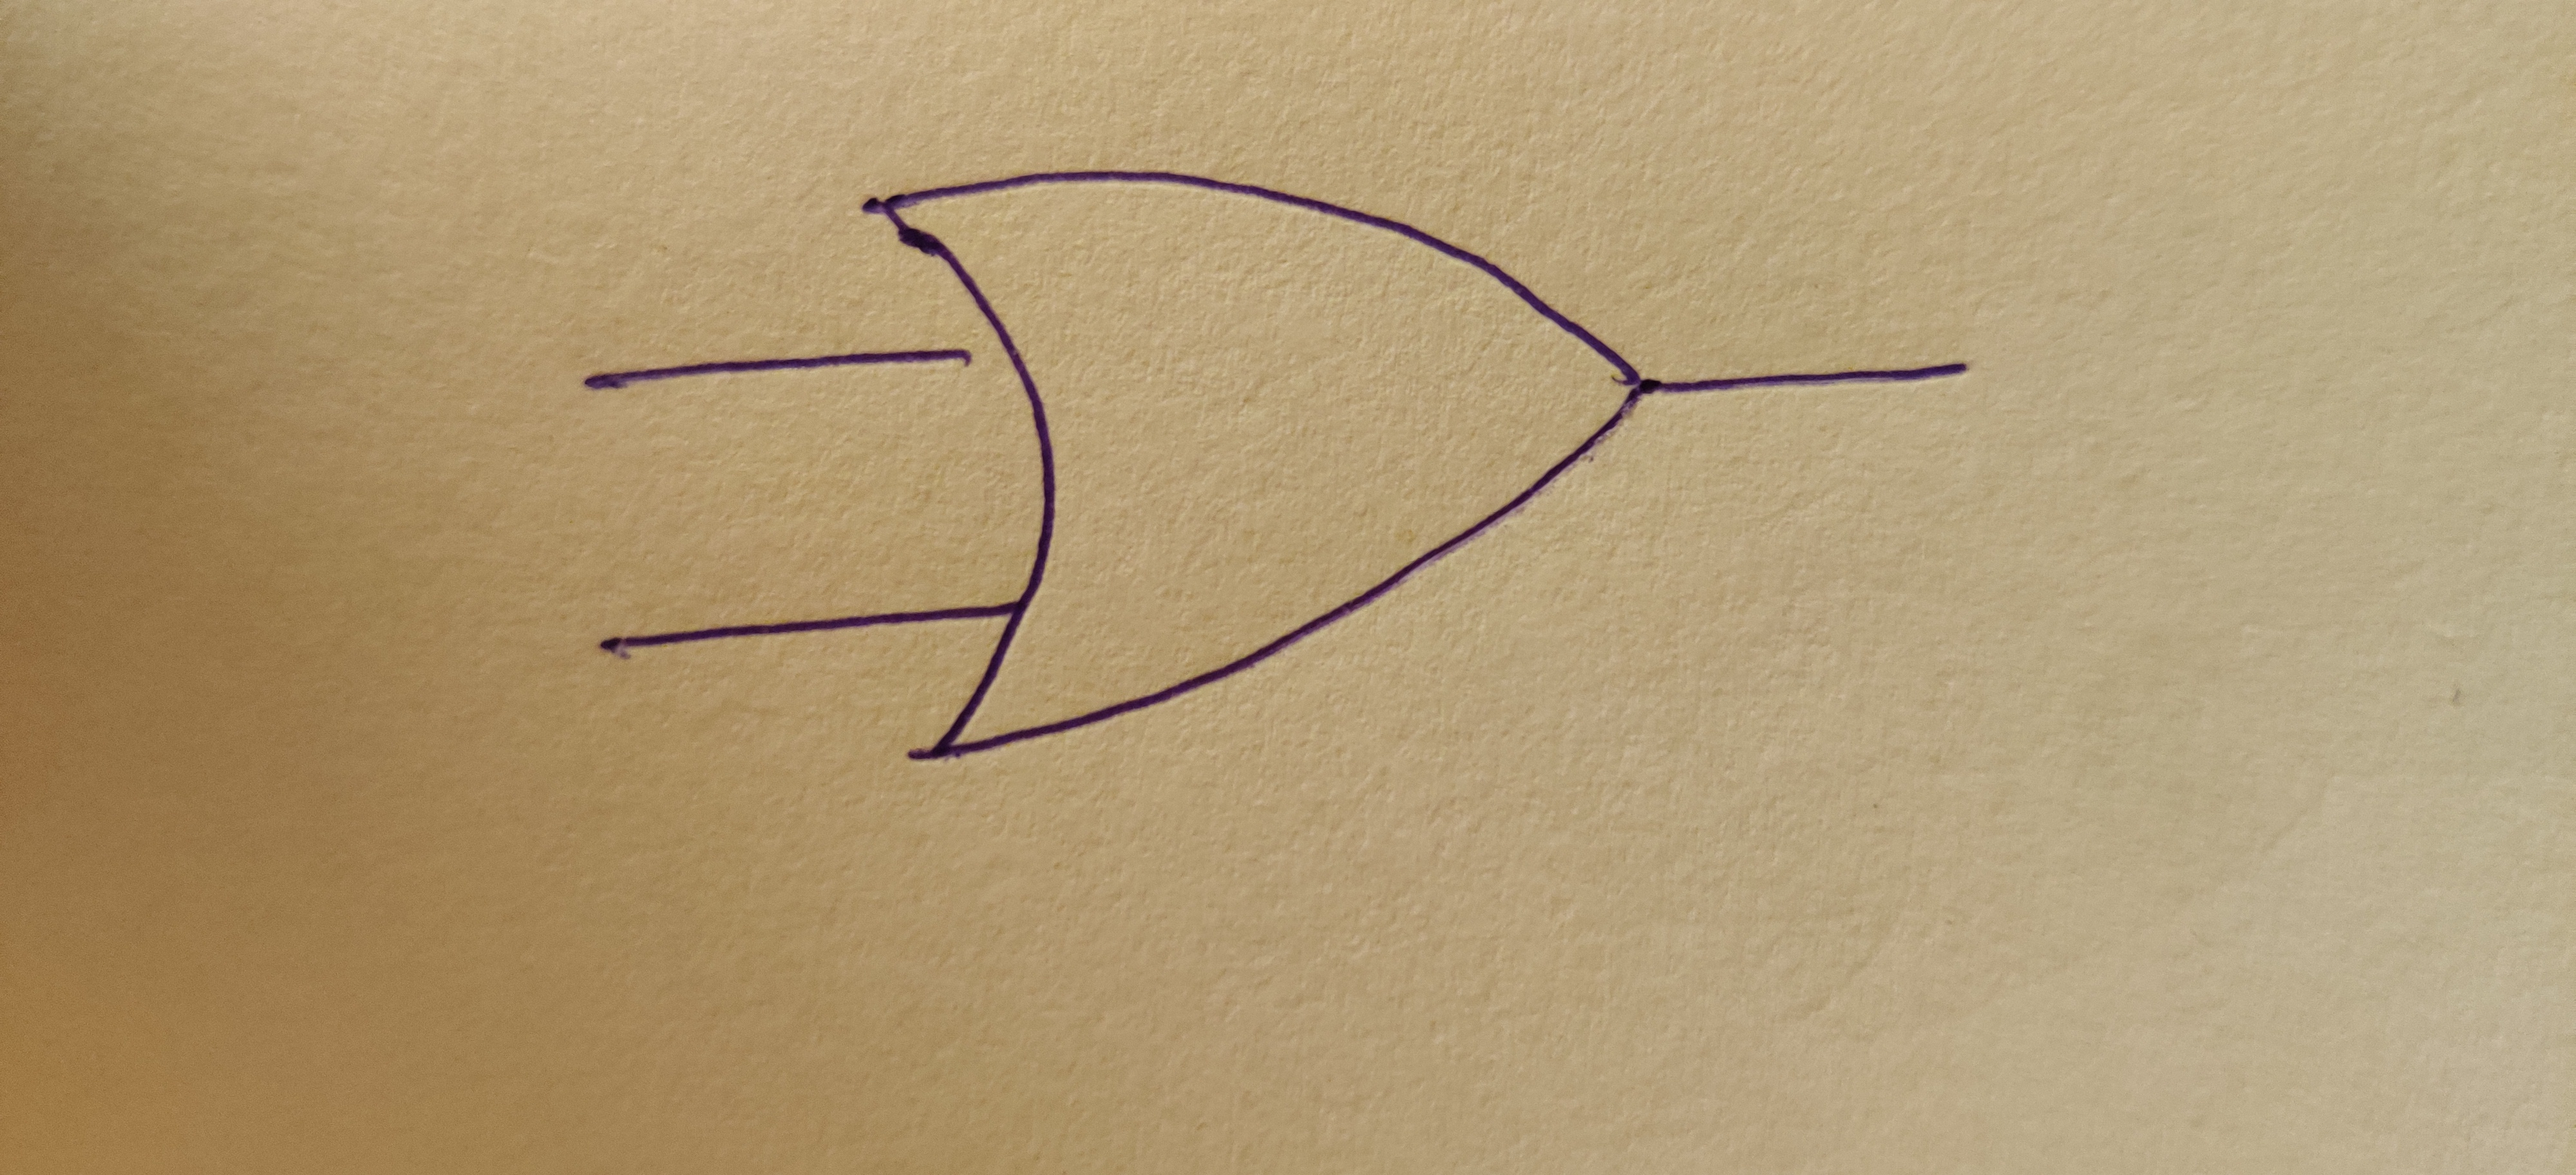or: (887, 173, 1646, 763)
